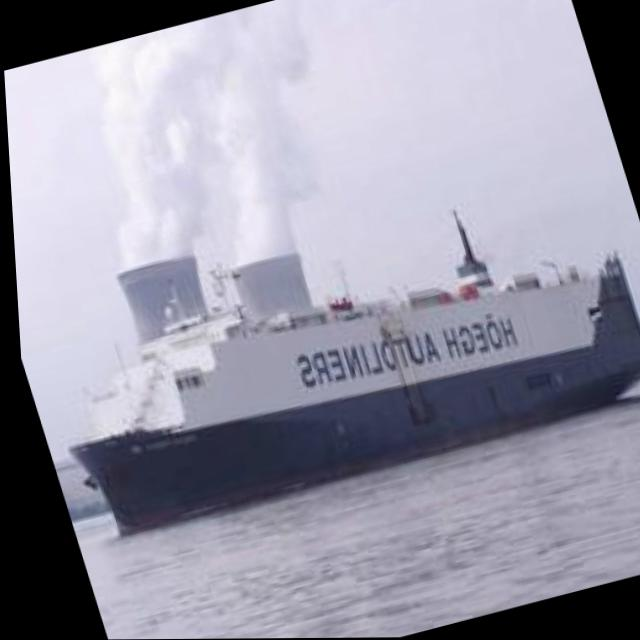ship2: (60, 212, 640, 537)
